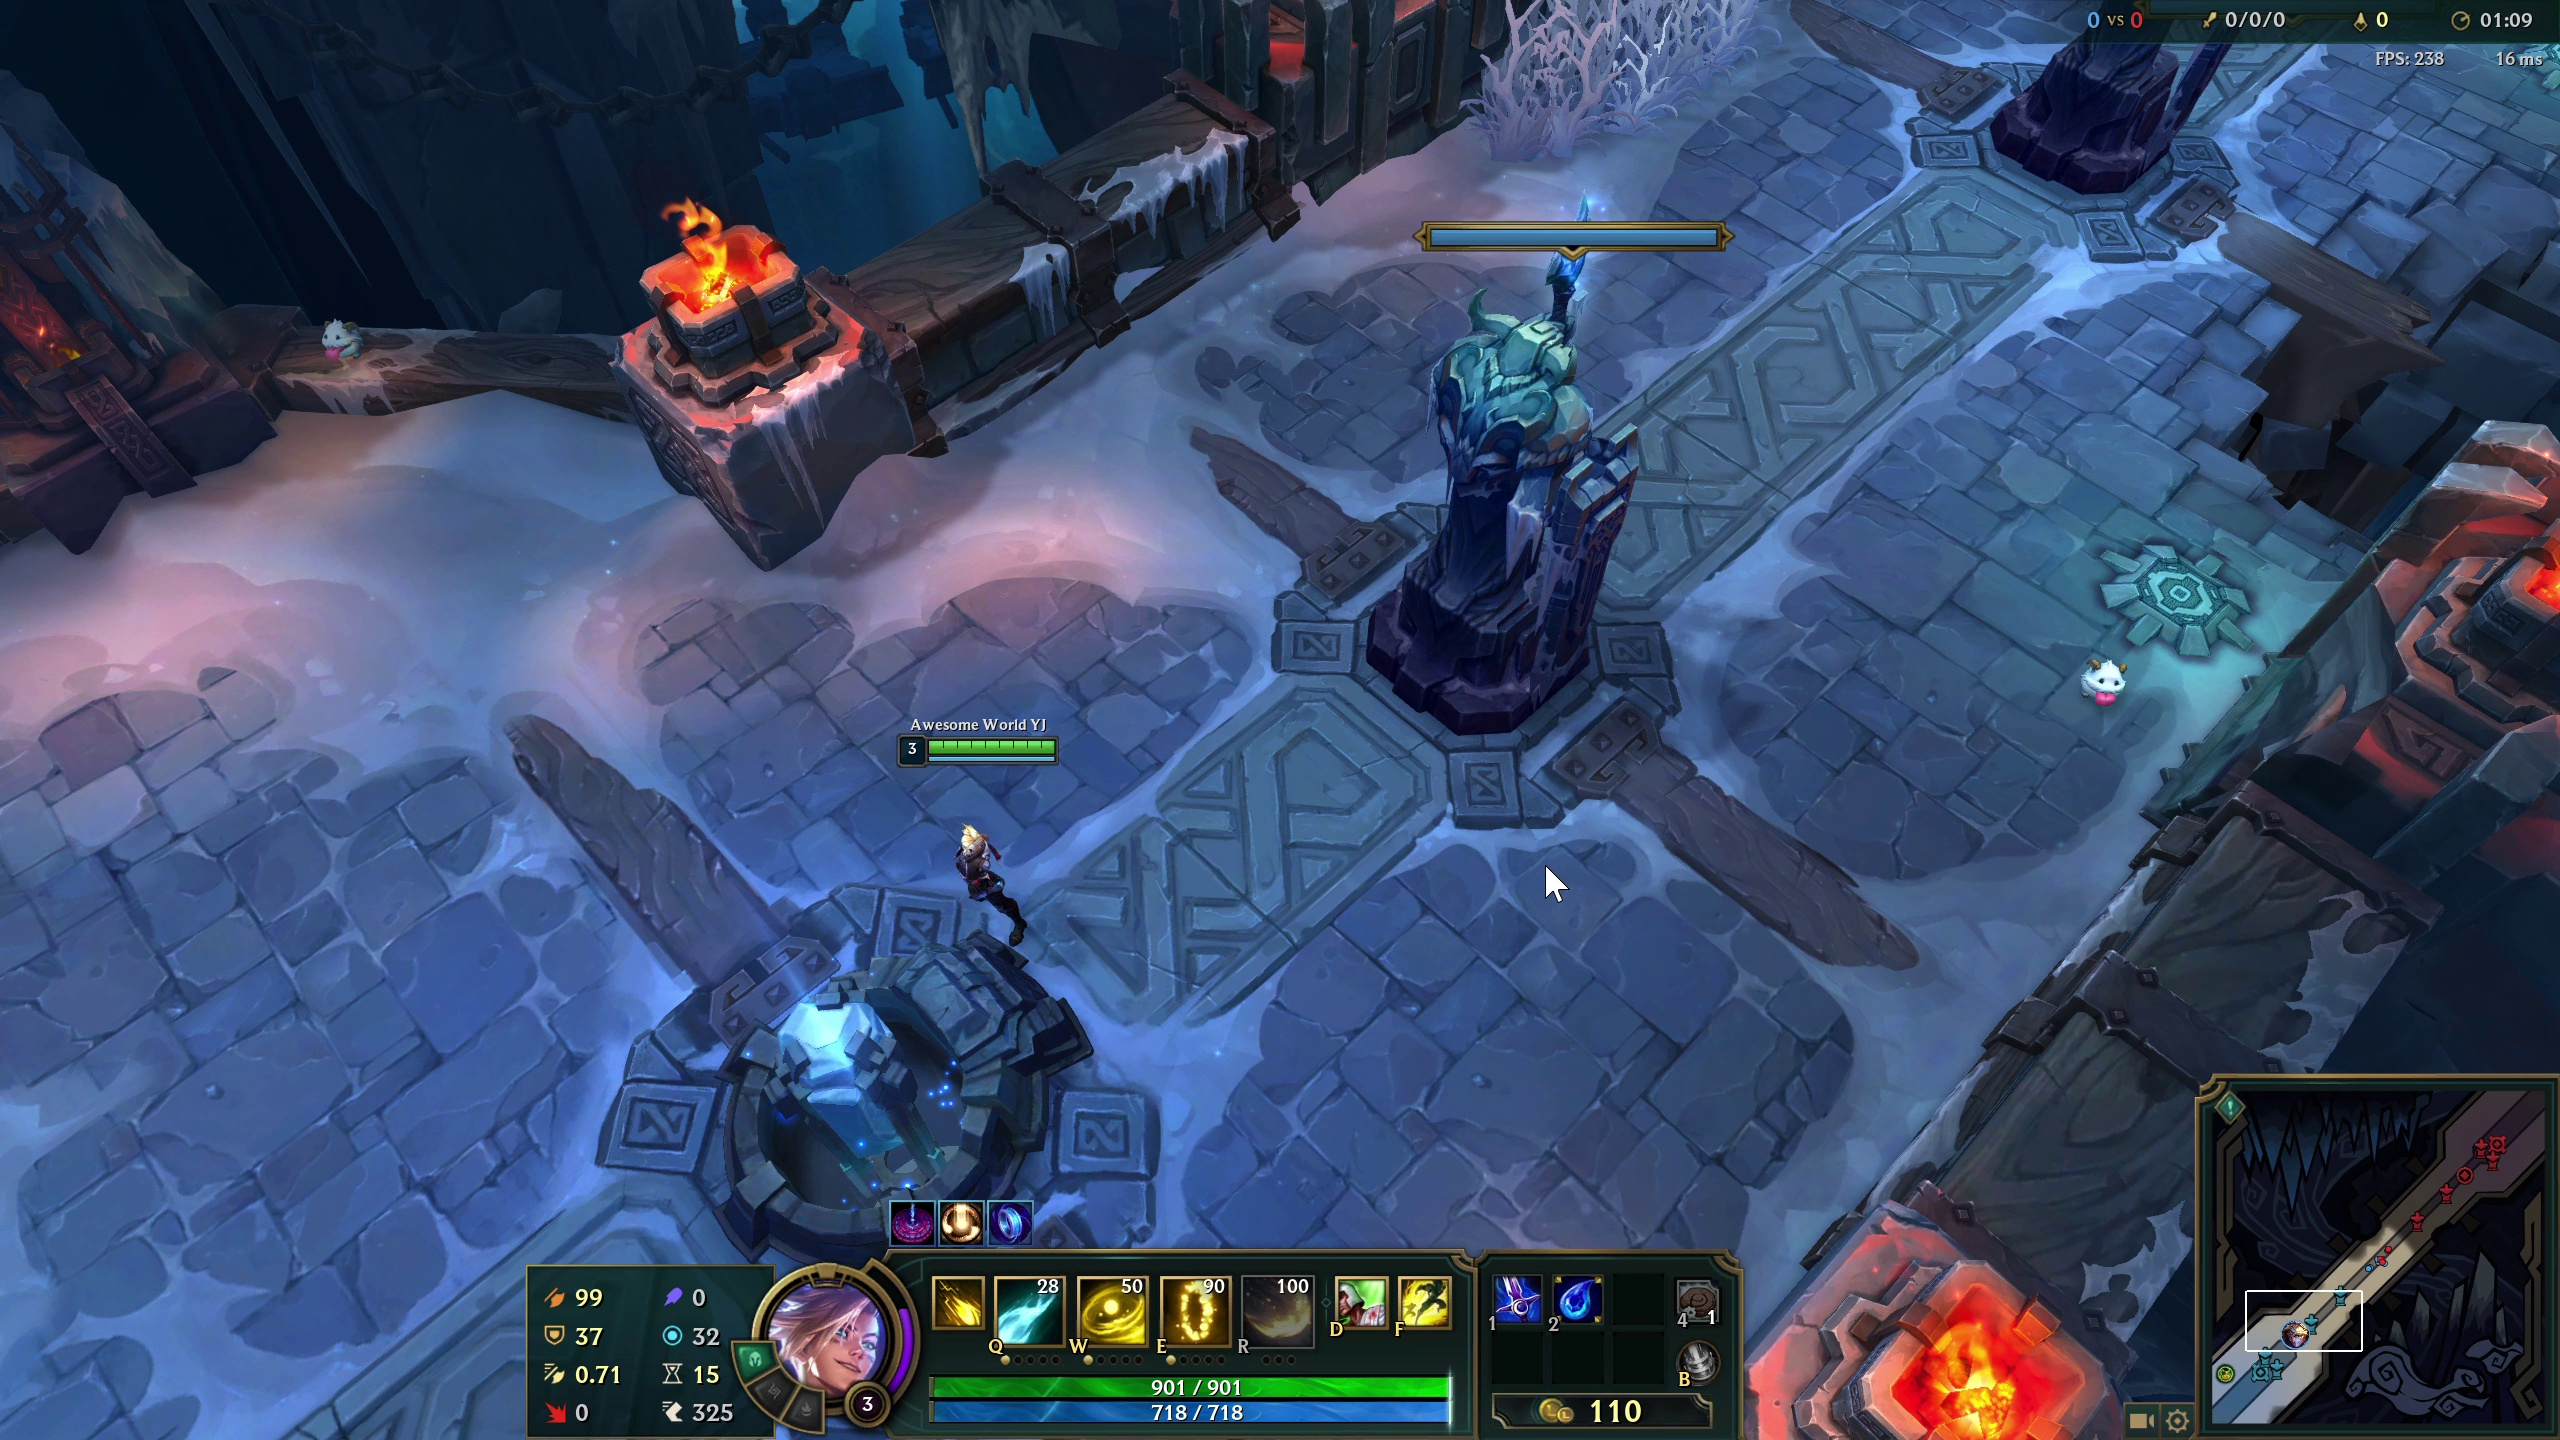EZ: (907, 712, 1064, 939)
Glass: (1491, 9, 1683, 135)
Home: (403, 1350, 515, 1438)
MyInhibitor: (636, 958, 1111, 1238)
MyTurret: (1412, 229, 1602, 724), (2038, 40, 2193, 167)
